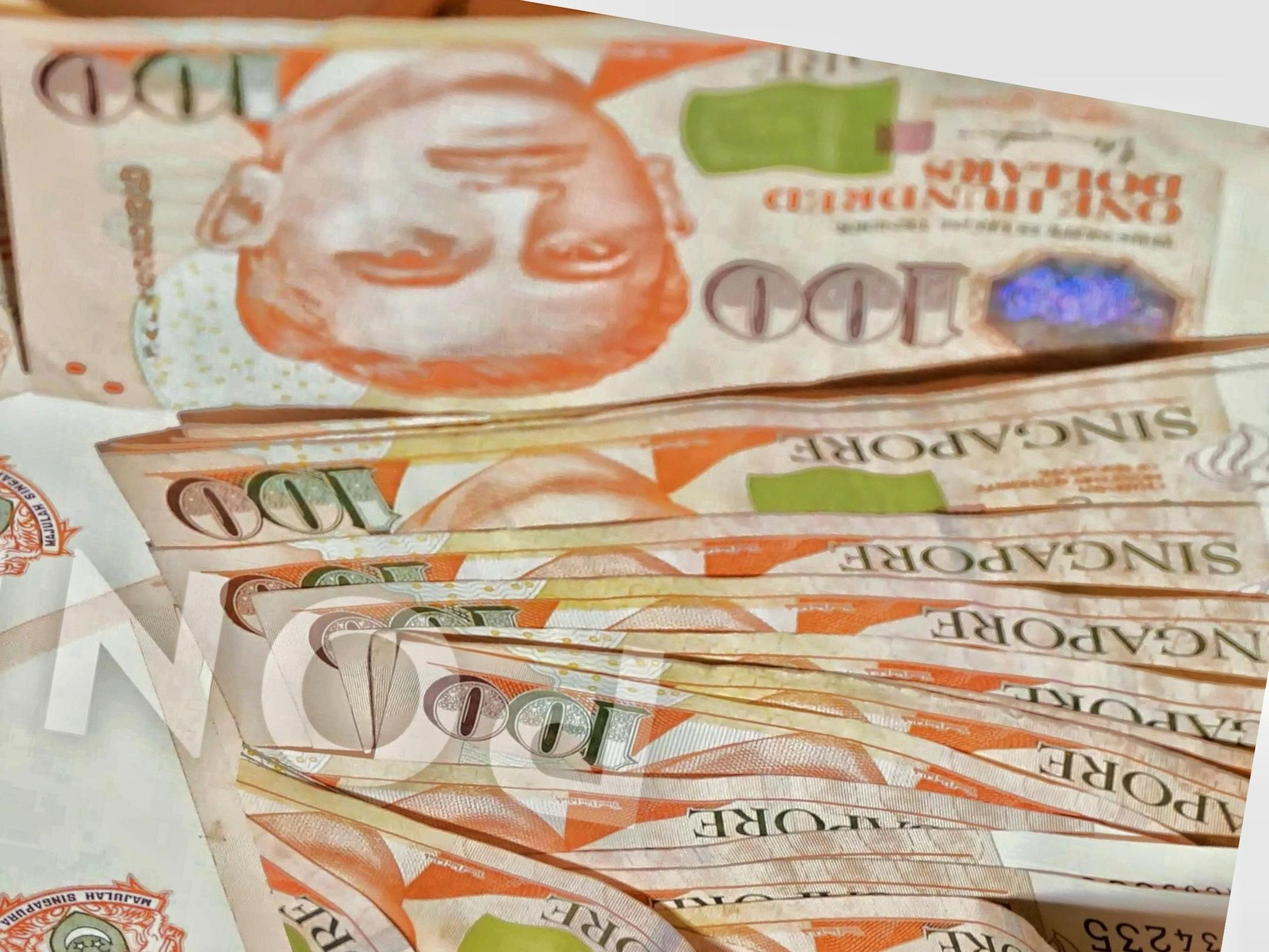100SingaporeDollar: (22, 20, 1221, 399)
